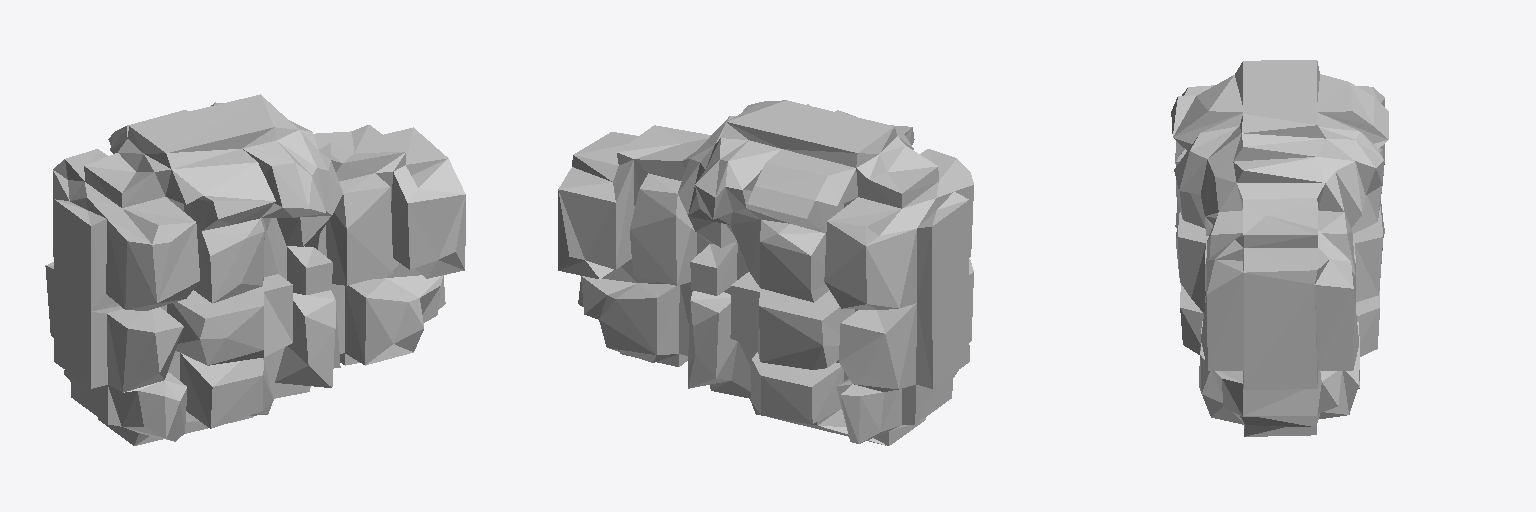
3 renders of one model, left to right at view 1: azimuth 30°, elevation 25°; view 2: azimuth 150°, elevation 25°; view 3: azimuth 270°, elevation 25°, orthographic.
Visible parts, largest first — view 1: unknown; view 2: unknown; view 3: unknown.
Boxes of the visible parts, <box> form: unknown: <box>45,94,465,445</box>; unknown: <box>558,100,973,445</box>; unknown: <box>1171,60,1388,436</box>.
Bounding box in the file's own units: 0.7498 × 0.5585 × 0.3855.